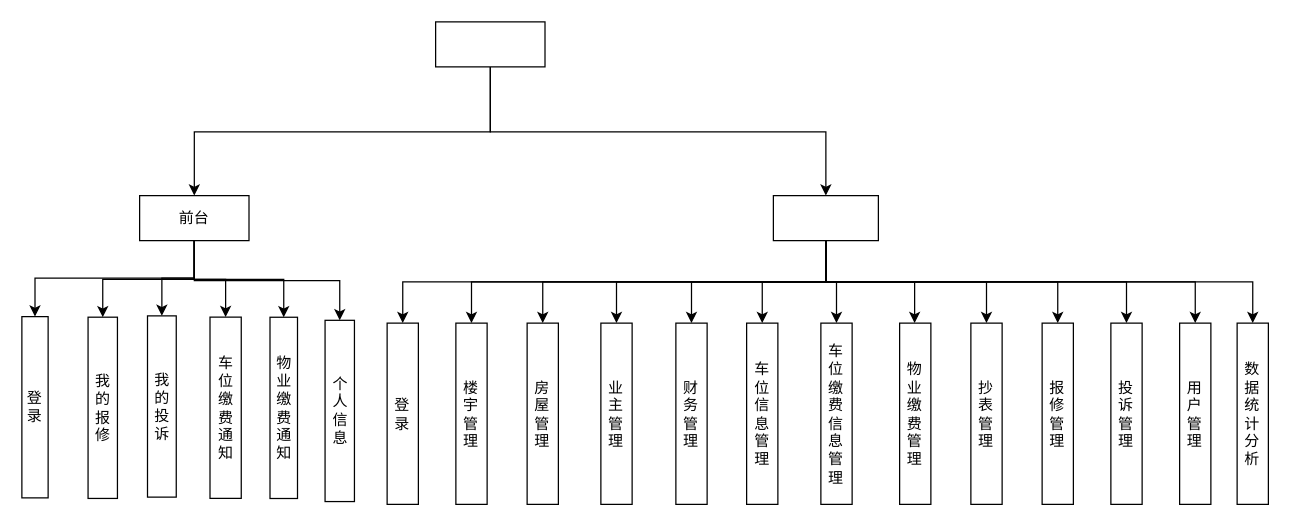
Image size: 1291x528. Some labels were removed from this diagram. Here are the shapes that lost their labels. From the top down, the centre of each, then its label:
At (x=489, y=44): "普乐智慧物业管理系统".
At (x=825, y=217): "后台".
